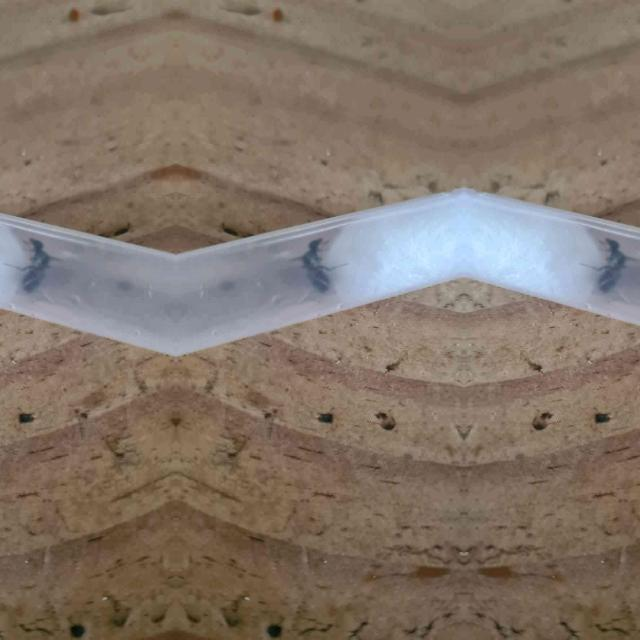Lasius: (13, 233, 52, 297), (298, 233, 336, 297), (590, 233, 628, 297)
